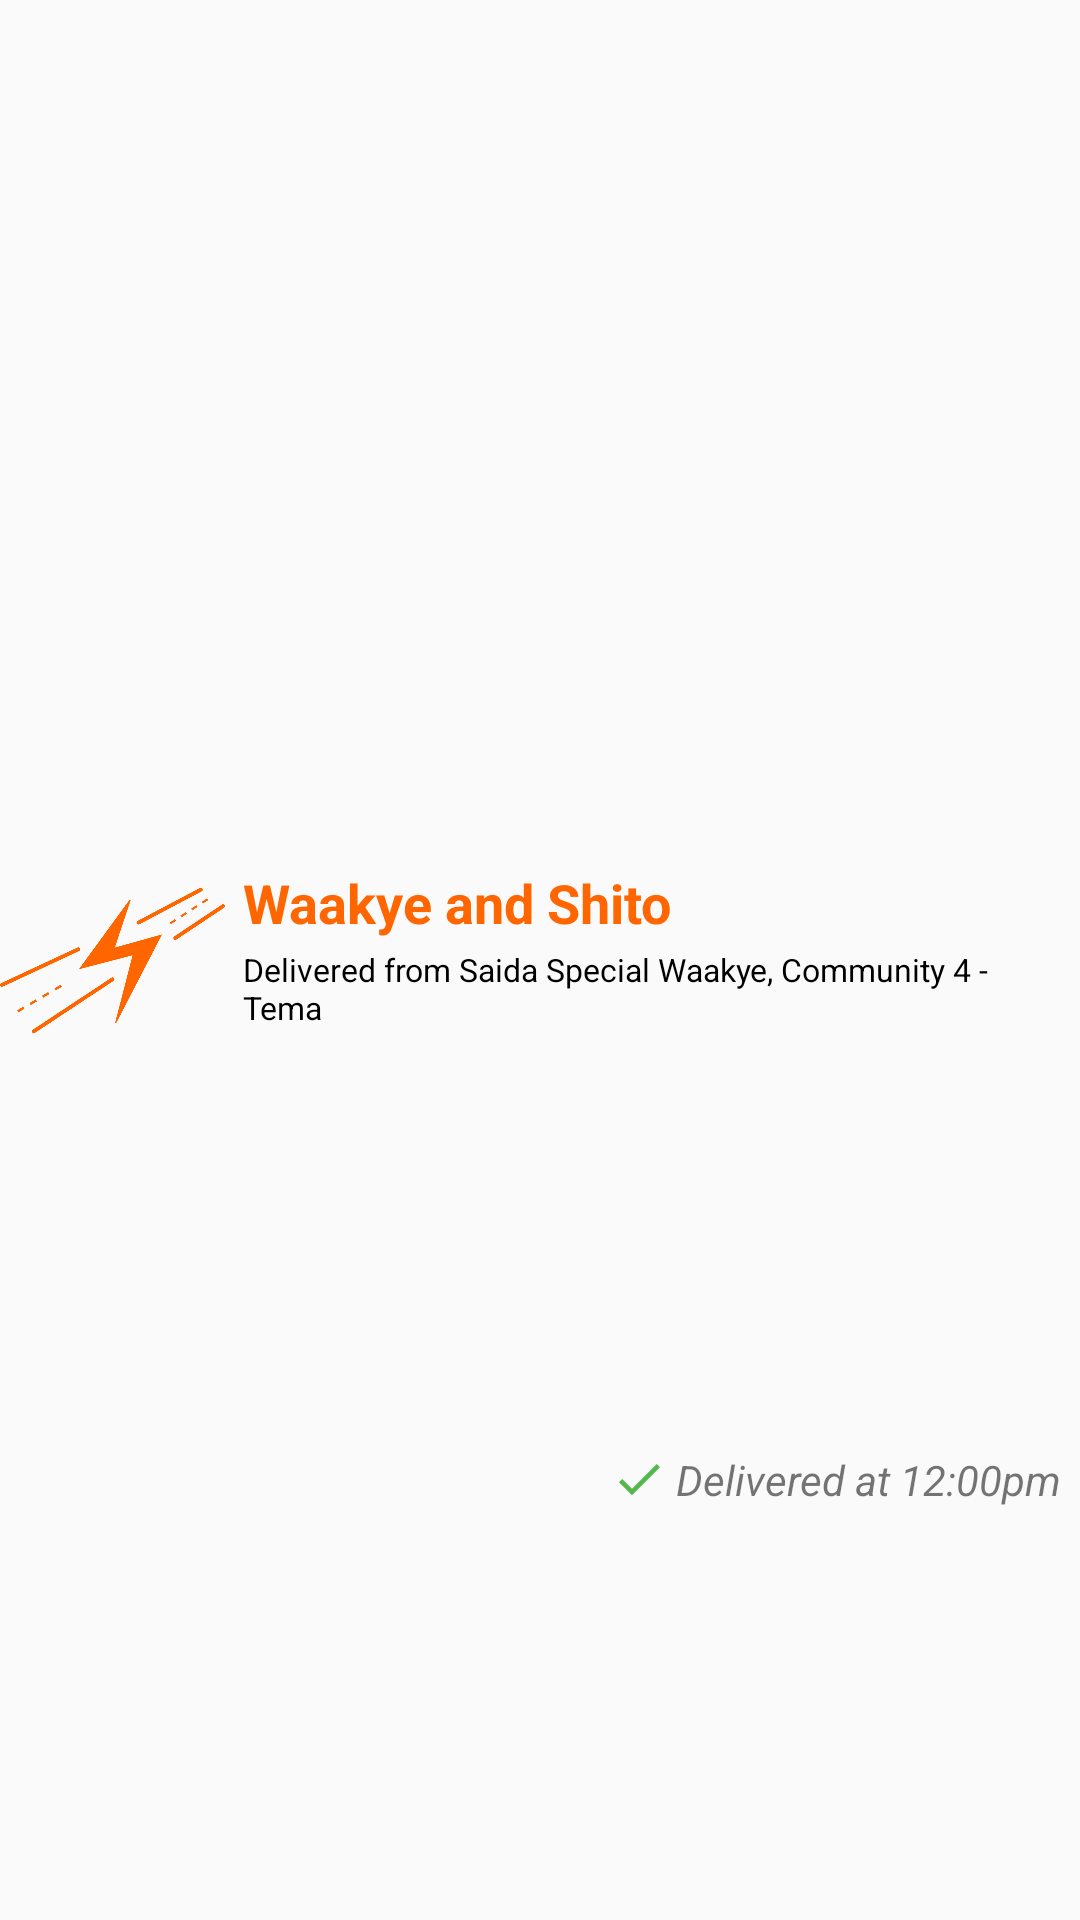

Point at icon controls on the screen. Image size 1080px x 1920px, points as (x=x, y=y).
check: (x=639, y=1479)
